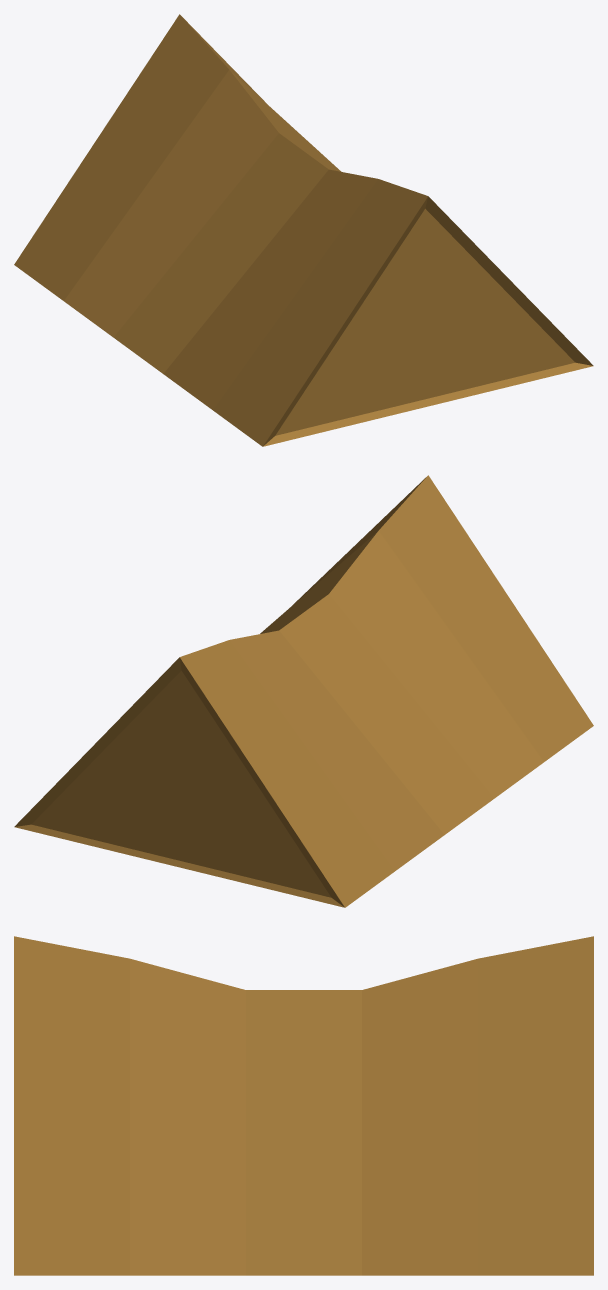
The model's file is gBaconJamTent.fbx.
The picture shows the model from 3 angles, top to bottom: view 1: azimuth 30°, elevation 25°; view 2: azimuth 150°, elevation 25°; view 3: azimuth 270°, elevation 25°; orthographic projection. The views are drawn at different scales.
Parts seen in each view (by area): view 1: Cube; view 2: Cube; view 3: Cube.
Boxes of the visible parts, box(x1,y1,x2,y2) form: Cube: box(14, 14, 593, 446); Cube: box(14, 475, 593, 907); Cube: box(14, 936, 593, 1275).
Size of the model in its own units: 4.62 by 2.8 by 6.
